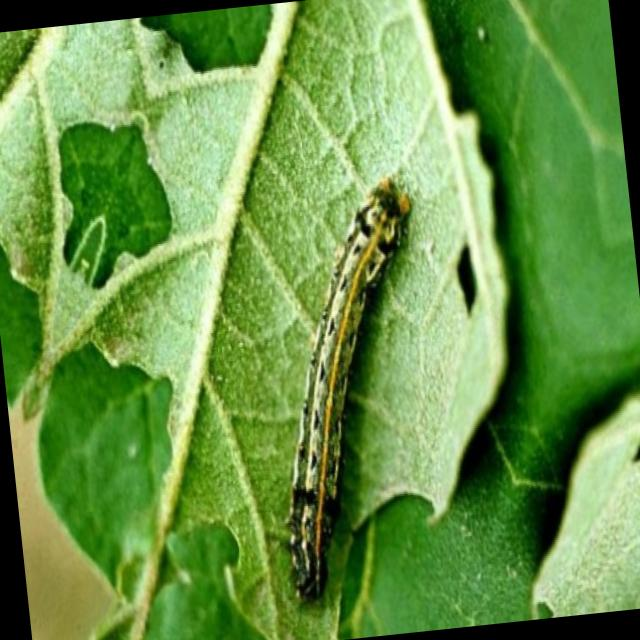Armyworm: (233, 158, 467, 624)
Armyworm_damage: (189, 492, 271, 620), (447, 248, 486, 319), (625, 417, 640, 501)
